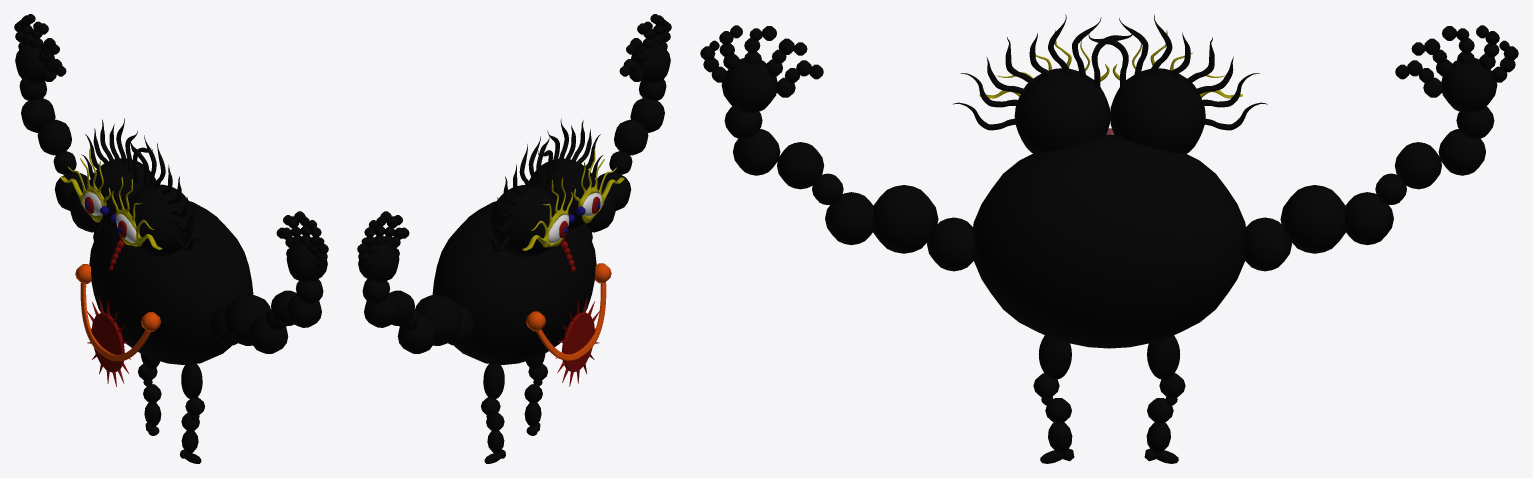
File: gashow-med.obj
3 renders of one model, left to right at view 1: azimuth 30°, elevation 25°; view 2: azimuth 150°, elevation 25°; view 3: azimuth 270°, elevation 25°, orthographic. The views are drawn at different scales.
Parts seen in each view (by area): view 1: body, arms, big_eyes, legs, outer-eyebrow, outer_eye, under_mouth, NurbsPath, smile_holes, Sphere, mouth_spikes; view 2: body, arms, big_eyes, legs, outer-eyebrow, outer_eye, under_mouth, NurbsPath, smile_holes, Sphere, mouth_spikes; view 3: body, arms, big_eyes, legs, outer-eyebrow, outer_eye.
Boxes of the visible parts, x1,y1,x2,y2 form: body: [89, 201, 253, 364]; arms: [14, 14, 328, 353]; big_eyes: [89, 158, 194, 256]; legs: [138, 353, 204, 463]; outer-eyebrow: [81, 118, 200, 251]; outer_eye: [60, 148, 162, 249]; under_mouth: [91, 312, 124, 372]; NurbsPath: [80, 283, 150, 361]; smile_holes: [75, 264, 160, 331]; Sphere: [83, 192, 136, 242]; mouth_spikes: [87, 298, 130, 386]; body: [432, 201, 596, 364]; arms: [357, 14, 671, 353]; big_eyes: [490, 158, 595, 256]; legs: [481, 353, 547, 463]; outer-eyebrow: [485, 119, 603, 251]; outer_eye: [522, 149, 624, 250]; under_mouth: [562, 312, 594, 372]; NurbsPath: [536, 282, 606, 360]; smile_holes: [526, 263, 611, 331]; Sphere: [548, 192, 602, 243]; mouth_spikes: [555, 297, 599, 386]; body: [973, 134, 1245, 348]; arms: [700, 25, 1518, 271]; big_eyes: [1014, 68, 1205, 153]; legs: [1033, 335, 1185, 463]; outer-eyebrow: [953, 14, 1267, 130]; outer_eye: [979, 30, 1242, 98].
Size of the model in its own units: 0.6653 by 1.57 by 2.67.
